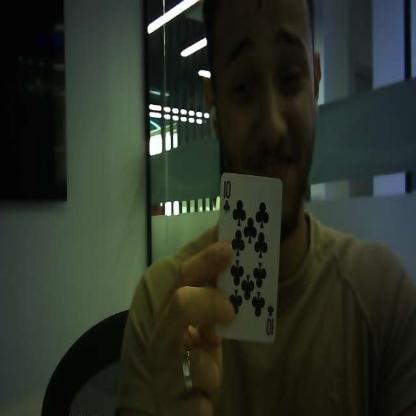10C: (222, 178, 232, 214), (264, 304, 274, 336)
